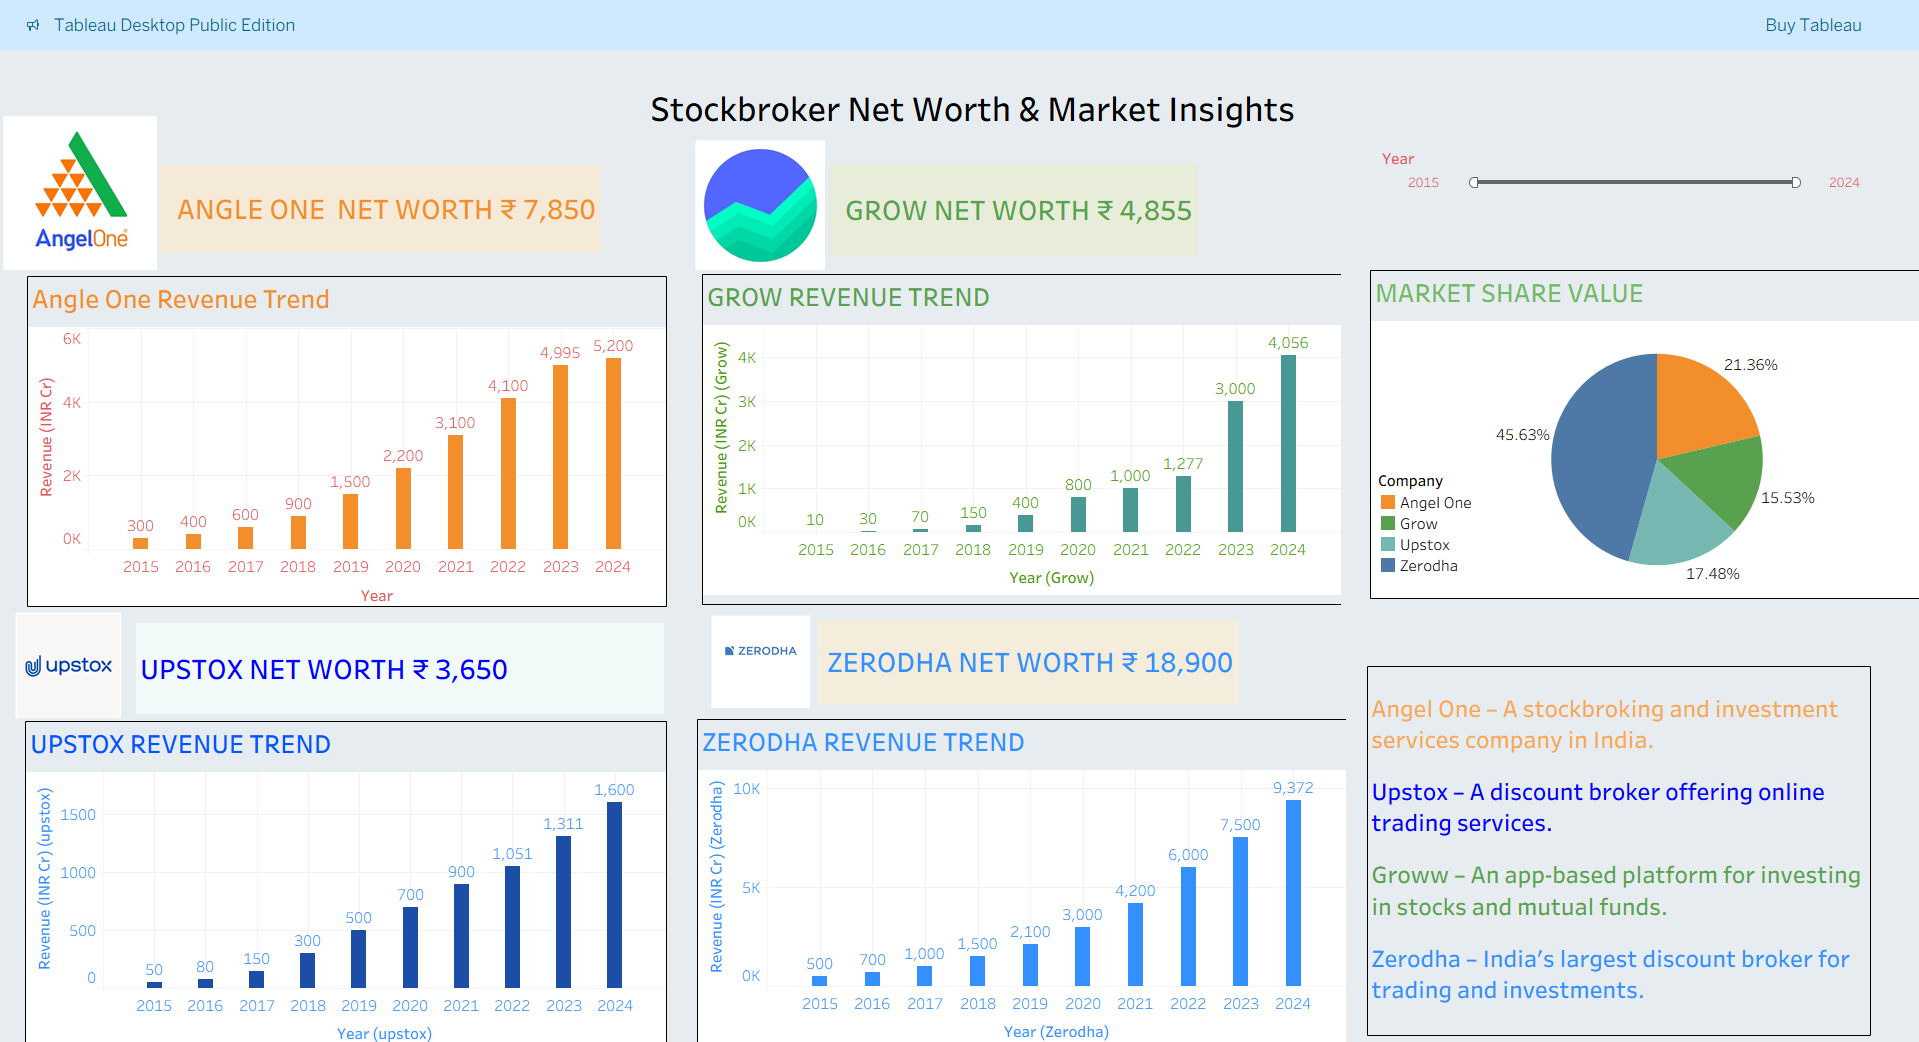

Layout of this report page (visuals, bound fields, positions):
{"tool":"tableau","page":{"name":"Dashboard 1","canvas":[1000,1000],"units":"permille","ordinal":0},"visuals":[{"type":"worksheet","title":"Sheet 5 (2)","mark":"Automatic","box":[607,47.6,194.4,118.5]},{"type":"worksheet","title":"Sheet 5","mark":"Automatic","box":[85.8,59.2,237.3,95.2]},{"type":"image","param":"Image/IMG-20250917-WA0028.jpg","box":[492.1,69.7,138.8,95.2]},{"type":"filter","title":"Sheet 1","param":"[federated.19bdsbw06x80741b1lqpw1bcte57].[none:Year:qk]","box":[829.5,92.9,84.8,75.5]},{"type":"worksheet","title":"Sheet 1","mark":"Bar","rows":["Revenue (INR Cr)"],"cols":["Year"],"box":[4.8,160.3,413.1,334.5]},{"type":"worksheet","title":"Sheet 2","mark":"Bar","rows":["Revenue (INR Cr) (Grow)"],"cols":["Year (Grow)"],"box":[448.4,170.7,368.1,327.5]},{"type":"legend","title":"Sheet 6","param":"[federated.19bdsbw06x80741b1lqpw1bcte57].[none:Company:nk]","box":[831.6,393.7,67.8,127.8]},{"type":"worksheet","title":"Sheet 5 (3)","mark":"Automatic","box":[160,505.2,205,109.2]},{"type":"image","param":"Image/4a8fc04a855b4e7a968e268b08543958.jpg","box":[471.9,509.9,151.5,117.3]},{"type":"image","param":"Image/IMG-20250917-WA0031.jpg","box":[4.8,515.7,151,96.4]},{"type":"worksheet","title":"Sheet 5 (4)","mark":"Automatic","box":[584.2,515.7,225.1,106.9]},{"type":"worksheet","title":"Sheet 4","mark":"Bar","rows":["Revenue (INR Cr) (Zerodha)"],"cols":["Year (Zerodha)"],"box":[446.5,633,368.1,362.4]},{"type":"worksheet","title":"Sheet 3","mark":"Bar","rows":["Revenue (INR Cr) (upstox)"],"cols":["Year (upstox)"],"box":[5.3,636.5,415.8,356.6]}]}

Visuals, with their boxes on the dashboard's canvas, which has no fixed pixel size, in thousandths of its width and height (x1, y1, x2, y2). These are canvas units, not pixel positions in the 1919x1042 screenshot, which may show the page scaled, cropped or inside an application window:
"Sheet 5 (2)" worksheet: 607/48/801/166
"Sheet 5" worksheet: 86/59/323/154
image: 492/70/631/165
"Sheet 1" filter: 830/93/914/168
"Sheet 1" worksheet (Bar marks): 5/160/418/495
"Sheet 2" worksheet (Bar marks): 448/171/816/498
"Sheet 6" legend: 832/394/899/522
"Sheet 5 (3)" worksheet: 160/505/365/614
image: 472/510/623/627
image: 5/516/156/612
"Sheet 5 (4)" worksheet: 584/516/809/623
"Sheet 4" worksheet (Bar marks): 446/633/815/995
"Sheet 3" worksheet (Bar marks): 5/636/421/993
